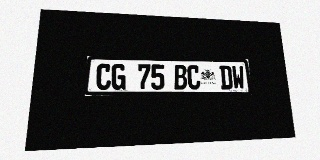5: (151, 64, 165, 90)
7: (137, 64, 151, 90)
B: (174, 65, 187, 90)
C: (96, 63, 111, 90), (187, 65, 201, 90)
D: (219, 65, 233, 89)
G: (111, 64, 126, 90)
W: (231, 66, 245, 89)
